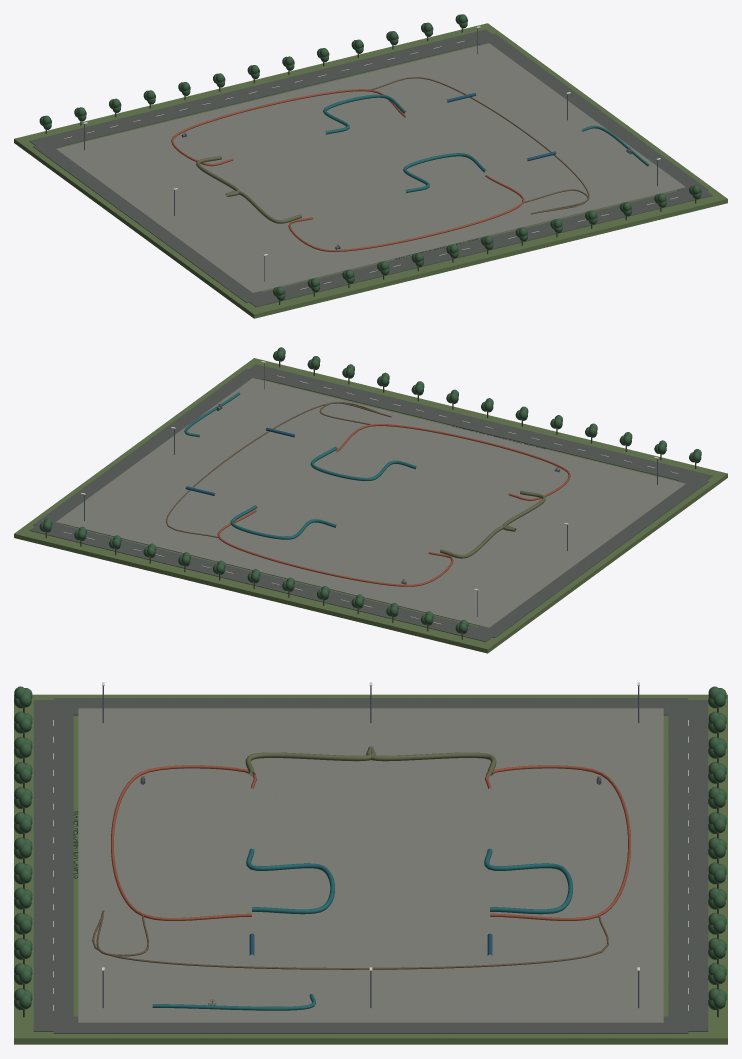
The model's file is water-site.1a52b20b62dd.glb.
3 views of the same model, one above another, from view 1: azimuth 30°, elevation 25°; view 2: azimuth 150°, elevation 25°; view 3: azimuth 270°, elevation 25° (orthographic). The views are drawn at different scales.
Parts seen in each view (by area): view 1: structure_paving_00292, structure_slab_00293, structure_grass_00291, structure_leaf_00296, structure_warm_00300, structure_teal_00298, structure_earth_00303, structure_raw_water_00297; view 2: structure_paving_00292, structure_slab_00293, structure_grass_00291, structure_leaf_00296, structure_warm_00300, structure_teal_00298, structure_earth_00303, structure_raw_water_00297; view 3: structure_paving_00292, structure_slab_00293, structure_grass_00291, structure_leaf_00296, structure_teal_00298, structure_warm_00300, structure_raw_water_00297, structure_earth_00303.
Part boxes in pixels (<box>): structure_paving_00292: <box>56,43,685,292</box>; structure_slab_00293: <box>29,29,712,307</box>; structure_grass_00291: <box>14,23,727,318</box>; structure_leaf_00296: <box>39,14,701,300</box>; structure_warm_00300: <box>171,89,630,251</box>; structure_teal_00298: <box>323,94,649,192</box>; structure_earth_00303: <box>370,77,589,214</box>; structure_raw_water_00297: <box>196,156,301,223</box>; structure_paving_00292: <box>56,378,685,627</box>; structure_slab_00293: <box>29,364,712,641</box>; structure_grass_00291: <box>14,358,727,653</box>; structure_leaf_00296: <box>39,347,701,633</box>; structure_warm_00300: <box>217,404,570,586</box>; structure_teal_00298: <box>184,392,416,539</box>; structure_earth_00303: <box>165,402,391,537</box>; structure_raw_water_00297: <box>440,490,545,558</box>; structure_paving_00292: <box>78,708,663,1022</box>; structure_slab_00293: <box>33,698,708,1033</box>; structure_grass_00291: <box>14,694,727,1044</box>; structure_leaf_00296: <box>14,686,726,1010</box>; structure_teal_00298: <box>152,848,572,1010</box>; structure_warm_00300: <box>111,765,630,1001</box>; structure_raw_water_00297: <box>245,746,496,776</box>; structure_earth_00303: <box>92,910,608,969</box>.
Size of the model in its own units: 82 by 5.3 by 72.
13 materials, 4 textured.
